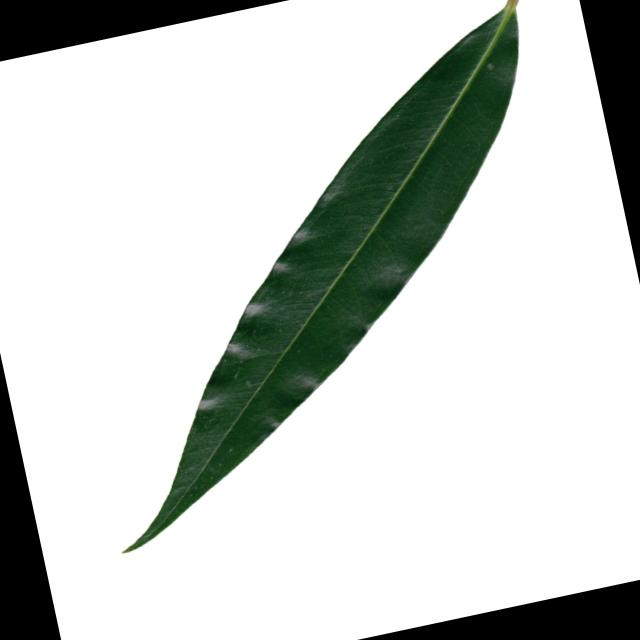Medicinal-Rose Apple: (25, 0, 619, 556)
